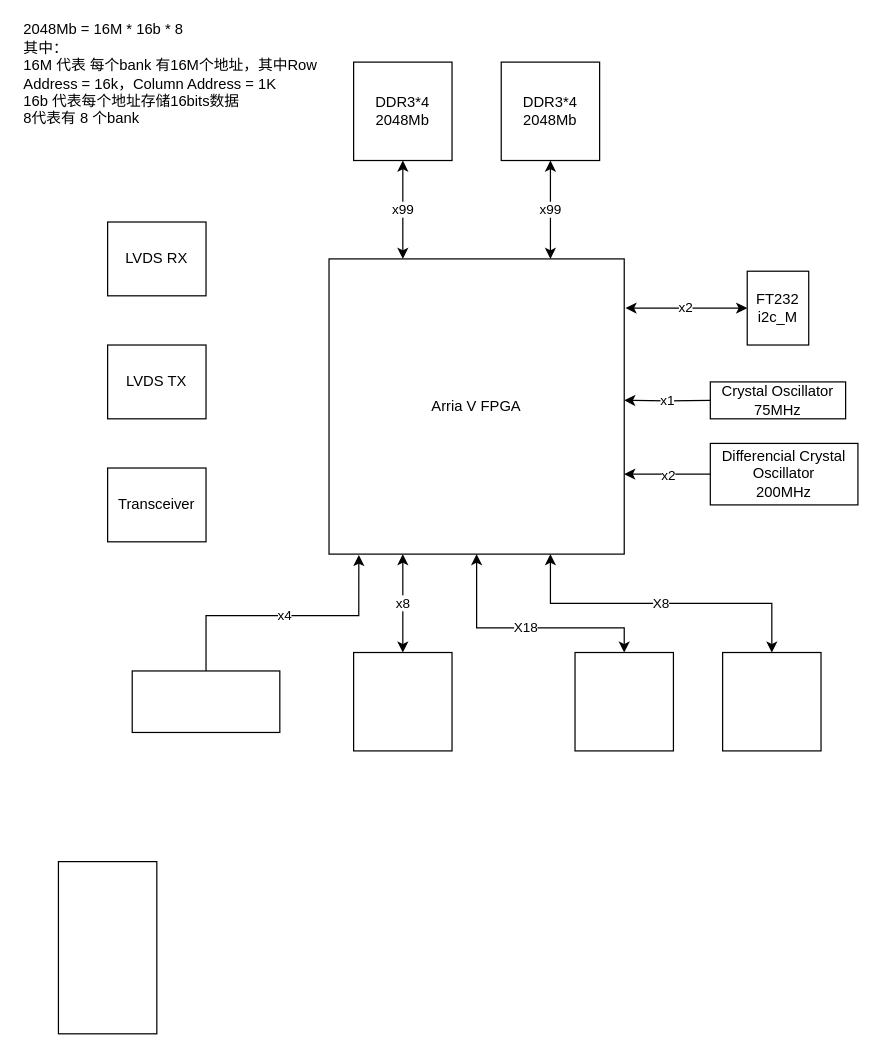
The diagram is 879 pixels wide and 1055 high, and some of its shapes have lost their labels. The centre of each missing label's shape, as x and y in pixels:
"8 bit NAND Flash 2Gb" goes at (x=623, y=701).
"Differencial Crystal Oscillator x2 148.5MHz" goes at (x=205, y=701).
"Power" goes at (x=107, y=947).
"SPI NAND Flash 2Gb" goes at (x=771, y=701).
"SPI Nor Flash 256Mb" goes at (x=402, y=701).
